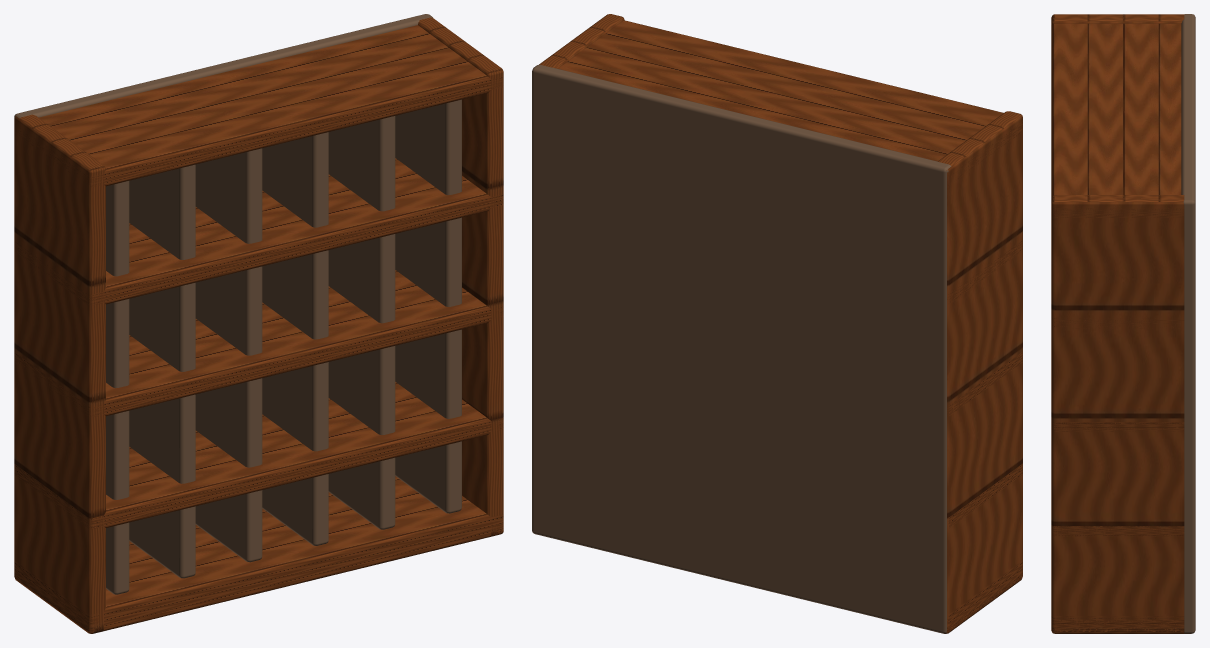
File: adventurers-tavern-and-guild-hall-wine-rack-02e943bc__24709.glb
3 renders of one model, left to right at view 1: azimuth 30°, elevation 25°; view 2: azimuth 150°, elevation 25°; view 3: azimuth 270°, elevation 25°, orthographic. The views are drawn at different scales.
Visible parts, largest first — view 1: wine-rack; view 2: wine-rack; view 3: wine-rack.
Part boxes in pixels (box(x1,y1,x2,y2)): wine-rack: box(14, 14, 503, 633); wine-rack: box(532, 14, 1022, 633); wine-rack: box(1051, 14, 1195, 633).
Bounding box in the file's own units: 1.4 × 1.5 × 0.4525.
2 materials, 1 textured.
